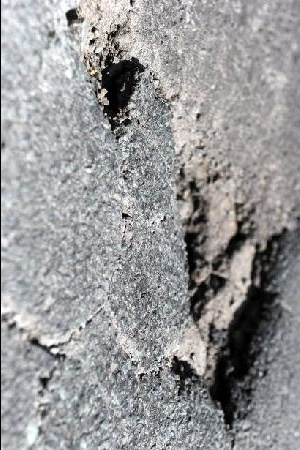pothole: (162, 129, 299, 432), (66, 0, 152, 138)
